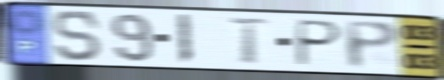9: (107, 11, 156, 63)
I: (174, 12, 194, 66)
P: (342, 19, 402, 71), (293, 18, 345, 68)
S: (51, 9, 104, 63)
T: (226, 16, 273, 66)
